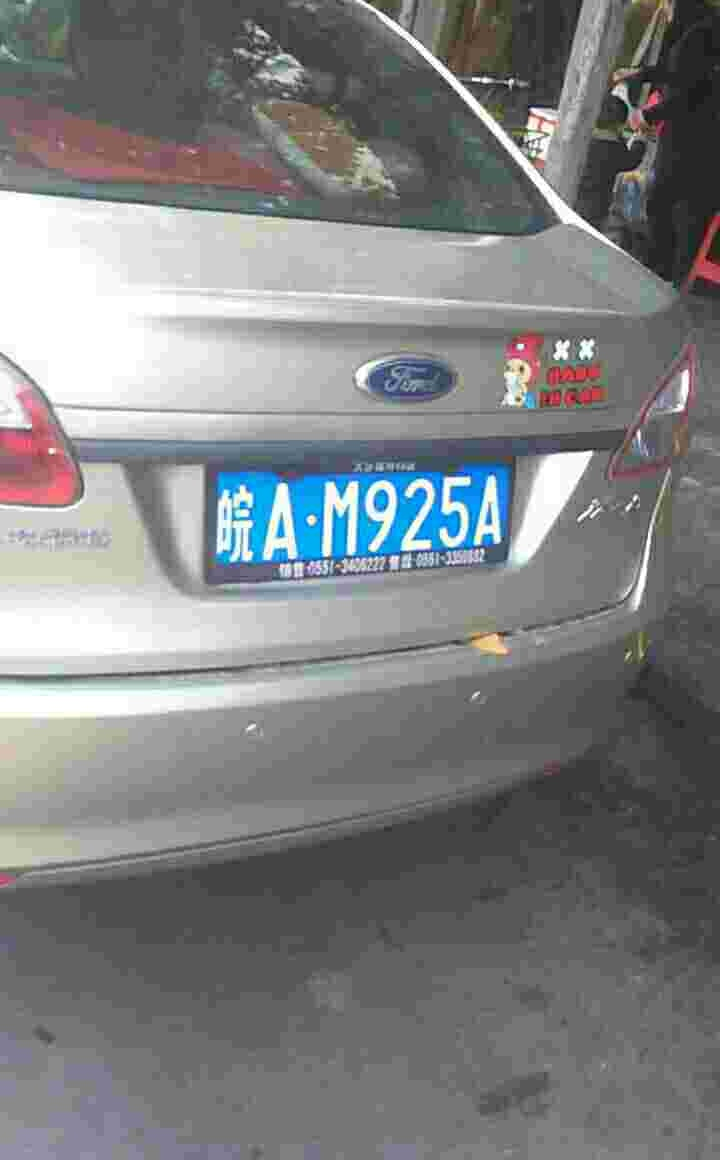license_plate: (210, 464, 509, 573)
